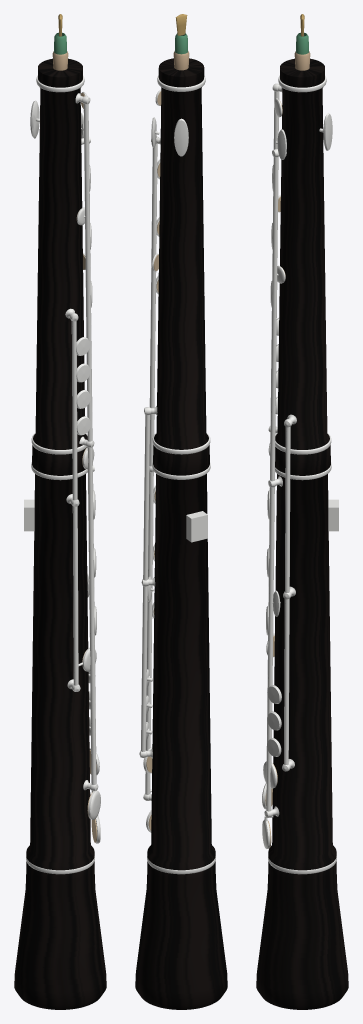
The model's file is oboe.glb.
3 views of the same model, side by side, from view 1: azimuth 90°, elevation 25°; view 2: azimuth 210°, elevation 25°; view 3: azimuth 270°, elevation 25° (orthographic).
Parts seen in each view (by area): view 1: Body, oct1; view 2: Body, oct1; view 3: Body, oct1, oct2.
Part boxes in pixels (x1=…): Body: x1=14, y1=14, x2=106, y2=1009; oct1: x1=30, y1=100, x2=39, y2=138; Body: x1=135, y1=14, x2=227, y2=1009; oct1: x1=174, y1=118, x2=188, y2=156; Body: x1=256, y1=14, x2=348, y2=1009; oct1: x1=319, y1=113, x2=332, y2=150; oct2: x1=276, y1=129, x2=286, y2=159.
Size of the model in its own units: 0.053 by 0.6184 by 0.053.
6 materials, 1 textured.
